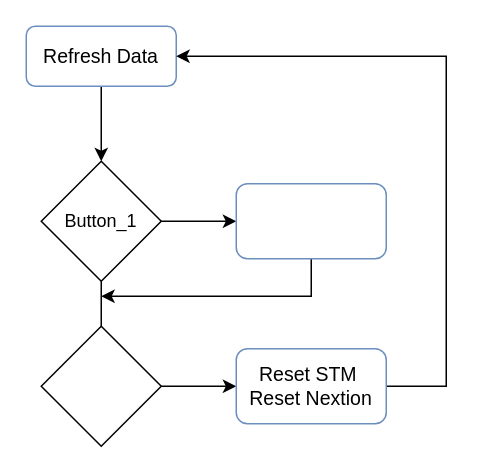
The diagram is 485 pixels wide and 473 high, and some of its shapes have lost their labels. The box of each missing label's shape, as (x1, y1, x2, y2) in pixels:
Button_2: (40, 325, 161, 446)
R2D: (235, 182, 386, 259)
